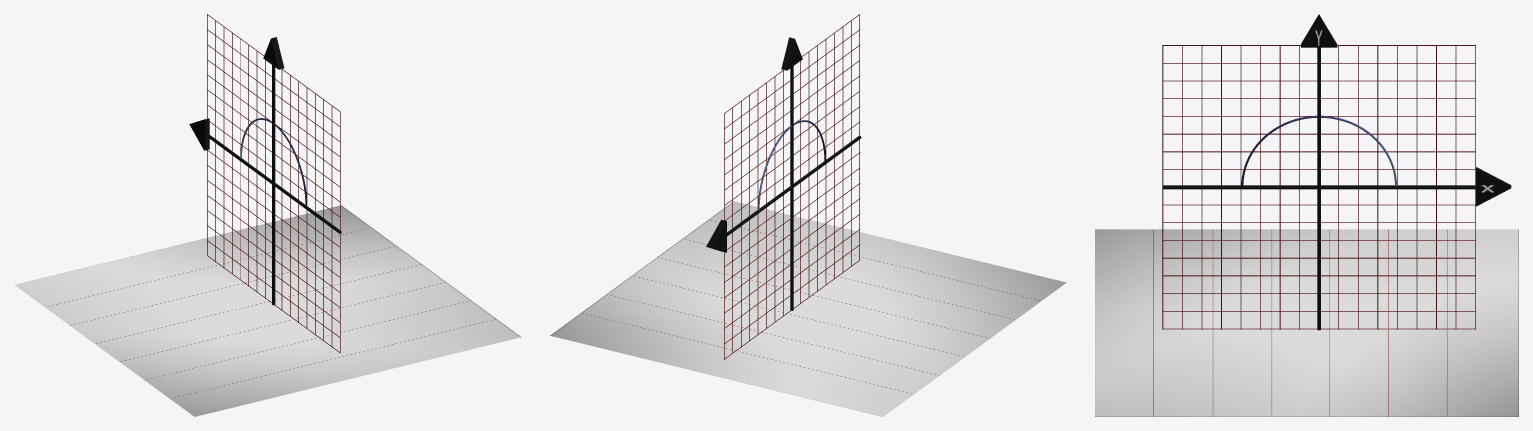
File: y=sqrt(1-x^2)k_positivo.fbx
3 renders of one model, left to right at view 1: azimuth 30°, elevation 25°; view 2: azimuth 150°, elevation 25°; view 3: azimuth 270°, elevation 25°, orthographic. The views are drawn at different scales.
Parts seen in each view (by area): view 1: circulo:plane1:pPlane1, circulo:pCylinder37, circulo:pCylinder36, circulo:pCylinder19, circulo:pCylinder29, circulo:pCylinder23; view 2: circulo:plane1:pPlane1, circulo:pCylinder37, circulo:pCylinder36, circulo:pCylinder22, circulo:pCylinder25; view 3: circulo:plane1:pPlane1, circulo:pCylinder36, circulo:pCylinder37, circulo:nueva_flecha_x1:polySurface1, circulo:Nueva_flecha_y1:polySurface1, circulo:pCylinder14, circulo:pCylinder3, circulo:pCylinder10, circulo:pCylinder17, circulo:CIRCULO:Mesh, circulo:pCylinder13, circulo:pCylinder7 (+8 smaller).
Boxes of the visible parts, bbox=[...] form: circulo:plane1:pPlane1: bbox=[15, 205, 521, 416]; circulo:pCylinder37: bbox=[272, 65, 275, 305]; circulo:pCylinder36: bbox=[205, 133, 341, 233]; circulo:pCylinder19: bbox=[331, 106, 332, 346]; circulo:pCylinder29: bbox=[256, 51, 257, 292]; circulo:pCylinder23: bbox=[306, 88, 307, 328]; circulo:plane1:pPlane1: bbox=[550, 201, 1066, 416]; circulo:pCylinder37: bbox=[790, 66, 793, 310]; circulo:pCylinder36: bbox=[727, 136, 861, 236]; circulo:pCylinder22: bbox=[842, 27, 843, 272]; circulo:pCylinder25: bbox=[808, 52, 809, 297]; circulo:plane1:pPlane1: bbox=[1095, 229, 1518, 416]; circulo:pCylinder36: bbox=[1162, 185, 1475, 189]; circulo:pCylinder37: bbox=[1317, 47, 1320, 330]; circulo:nueva_flecha_x1:polySurface1: bbox=[1476, 167, 1511, 206]; circulo:Nueva_flecha_y1:polySurface1: bbox=[1301, 14, 1337, 47]; circulo:pCylinder14: bbox=[1163, 275, 1475, 276]; circulo:pCylinder3: bbox=[1163, 80, 1475, 81]; circulo:pCylinder10: bbox=[1162, 204, 1475, 205]; circulo:pCylinder17: bbox=[1162, 328, 1475, 329]; circulo:CIRCULO:Mesh: bbox=[1241, 115, 1396, 186]; circulo:pCylinder13: bbox=[1162, 257, 1475, 258]; circulo:pCylinder7: bbox=[1163, 151, 1475, 152].
Size of the model in its own units: 56.75 by 44.29 by 54.19.
